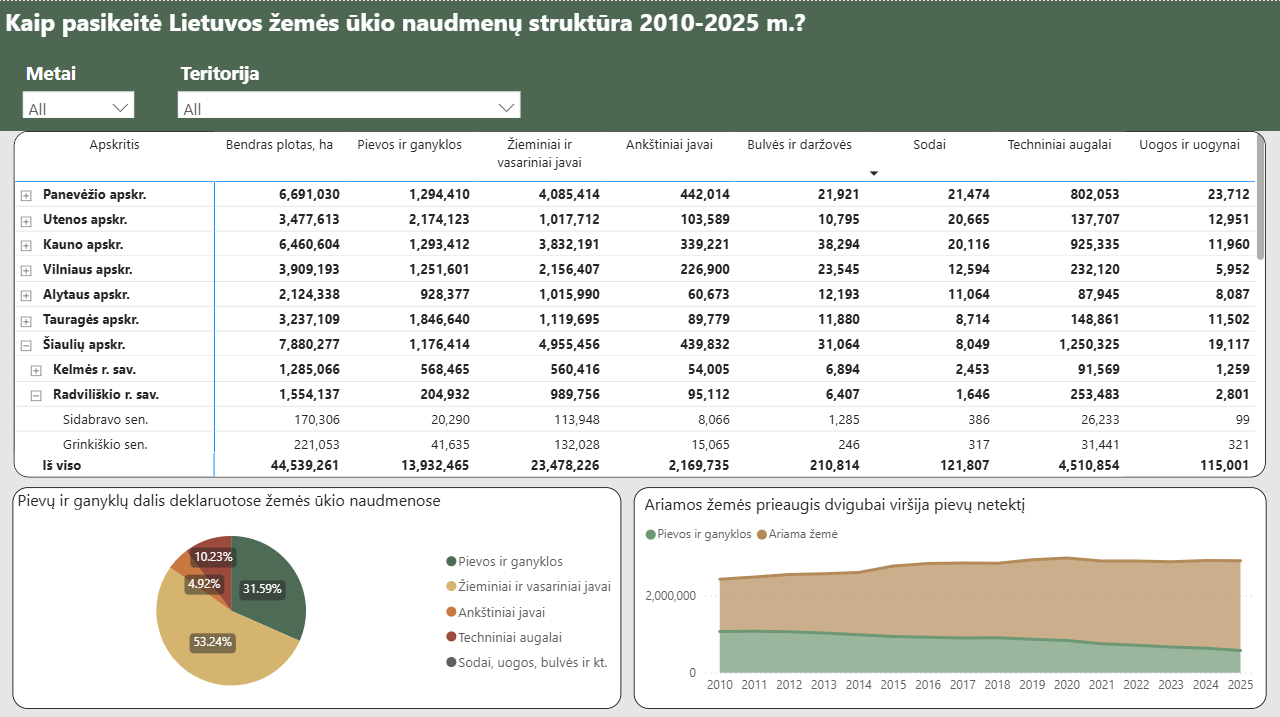

Layout of this report page (visuals, bound fields, positions):
{"tool":"powerbi","page":{"name":"4. Naudmenų struktūra","canvas":[1280,720],"ordinal":3},"visuals":[{"type":"shape","box":[0,0,1280,130],"z":0},{"type":"pivotTable","fields":{"Rows":["final20102025.apskritis Hierarchy.apskritis","final20102025.apskritis Hierarchy.rajonas","final20102025.apskritis Hierarchy.seniunija"],"Values":["Sum(final20102025.VISO_ha_sen)","Sum(final20102025.PG_ha_sen)","Sum(final20102025.ZVJ_ha_sen)","Sum(final20102025.AJ_ha_sen)","Sum(final20102025.BD_ha_sen)","Sum(final20102025.S_ha_sen)","Sum(final20102025.TA_ha_sen)","Sum(final20102025.UO_ha_sen)"]},"box":[13.3,130,1252.2,346.7],"z":1000},{"type":"slicer","fields":{"Values":["final20102025.metai"]},"box":[13,53.4,131.7,63.3],"z":2000},{"type":"slicer","fields":{"Values":["final20102025.apskritis Hierarchy.apskritis","final20102025.apskritis Hierarchy.rajonas","final20102025.apskritis Hierarchy.seniunija"]},"box":[167.4,53.4,362.9,62.9],"z":3000},{"type":"textbox","box":[0,0,863.8,53.8],"z":4000},{"type":"stackedAreaChart","fields":{"Category":["final20102025.metai"],"Y":["_measures.PGha","Sum(final20102025.ariama_ha_sen)"]},"box":[633.8,486.2,632.5,221.2],"z":5000},{"type":"pieChart","title":"Pievų ir ganyklų dalis deklaruotose žemės ūkio naudmenose","fields":{"Y":["Sum(final20102025.PG_ha_sen)","Sum(final20102025.ZVJ_ha_sen)","Sum(final20102025.AJ_ha_sen)","Sum(final20102025.TA_ha_sen)","CountNonNull(final20102025.KT_ha_sen)"]},"box":[12.5,486.2,608.8,221.2],"z":6000}]}

Visuals, with their boxes in screenshot pixels (x1, y1, x2, y2), scaled from the page's 1280x720 canvas onto the 1280x717 screenshot:
shape: bbox=(0, 0, 1279, 129)
pivotTable - final20102025.apskritis Hierarchy.apskritis x final20102025.apskritis Hierarchy.rajonas: bbox=(13, 129, 1266, 475)
slicer - final20102025.metai: bbox=(13, 53, 145, 116)
slicer - final20102025.apskritis Hierarchy.apskritis x final20102025.apskritis Hierarchy.rajonas: bbox=(167, 53, 530, 116)
textbox: bbox=(0, 0, 864, 54)
stackedAreaChart - final20102025.metai x _measures.PGha: bbox=(634, 484, 1266, 704)
"Pievų ir ganyklų dalis deklaruotose žemės ūkio naudmenose" pieChart: bbox=(12, 484, 621, 704)
